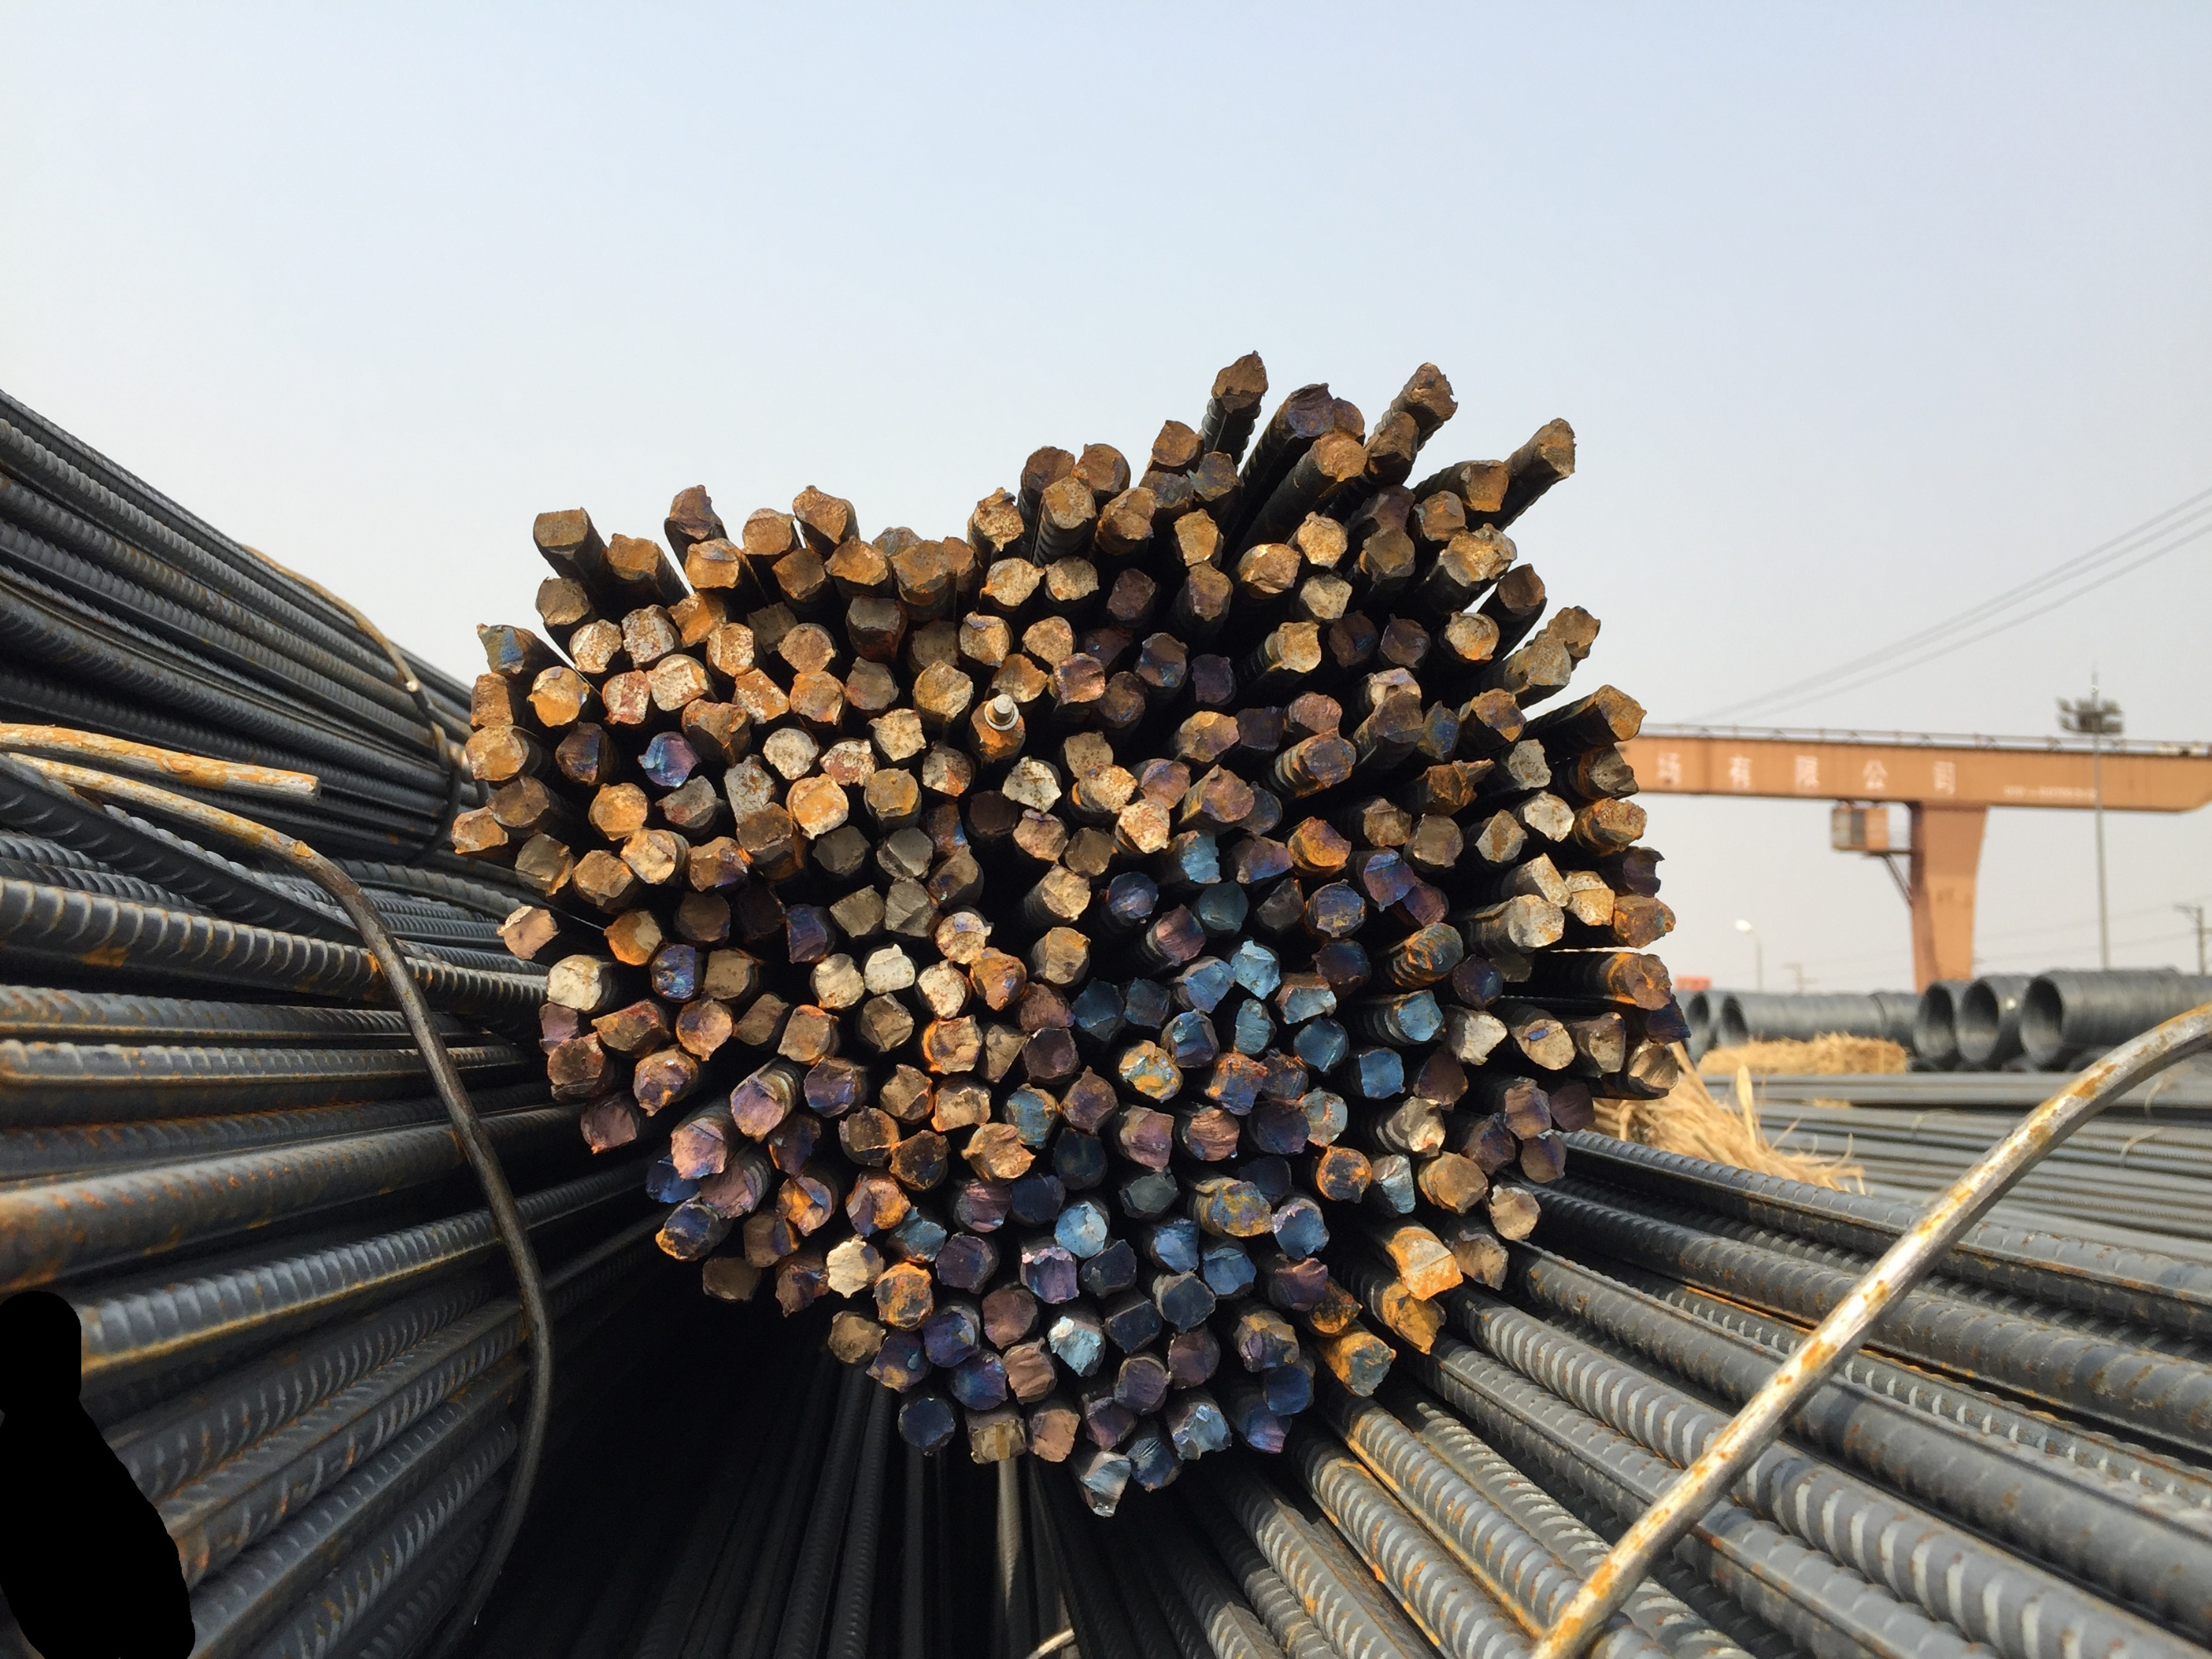rebar: (784, 772, 849, 840), (845, 1169, 910, 1237), (523, 664, 593, 727), (980, 1279, 1041, 1351), (1060, 1065, 1121, 1136), (1117, 1037, 1184, 1101), (546, 1032, 608, 1100), (865, 1330, 933, 1392), (960, 1122, 1035, 1178), (512, 829, 575, 896), (872, 1265, 934, 1331), (873, 1209, 947, 1265), (654, 1201, 718, 1263), (636, 730, 702, 791), (889, 1126, 950, 1192), (464, 723, 532, 782), (1048, 1312, 1107, 1380), (1396, 1239, 1464, 1298), (729, 1072, 786, 1141), (1119, 1103, 1177, 1173), (654, 774, 725, 829), (910, 659, 974, 720), (933, 1230, 994, 1295), (682, 697, 751, 753), (1002, 1337, 1058, 1406), (546, 951, 607, 1014), (631, 1053, 692, 1115), (591, 1000, 664, 1053), (722, 751, 774, 824), (772, 1175, 835, 1236), (1018, 1246, 1081, 1307), (1079, 1236, 1140, 1298), (1203, 1054, 1265, 1115), (1210, 349, 1271, 411), (497, 903, 561, 962), (824, 1234, 884, 1298), (922, 1304, 981, 1368), (1511, 1012, 1576, 1072), (685, 833, 751, 890), (765, 1110, 823, 1176), (485, 774, 553, 829), (1367, 410, 1422, 477), (1269, 1255, 1330, 1316), (1180, 1103, 1241, 1164), (1248, 1096, 1309, 1157), (776, 1002, 835, 1065), (898, 1394, 957, 1457), (948, 1349, 1008, 1412), (837, 1105, 899, 1164), (647, 653, 711, 711), (884, 875, 940, 941), (971, 484, 1025, 552), (1072, 978, 1126, 1046), (587, 781, 648, 840), (675, 1000, 734, 1061), (573, 849, 633, 910), (669, 1117, 729, 1178), (1401, 361, 1461, 422), (1271, 1197, 1330, 1258), (1469, 687, 1529, 748), (1503, 890, 1564, 950), (793, 484, 856, 542), (969, 695, 1027, 758), (856, 992, 913, 1054), (920, 1016, 983, 1073), (1001, 755, 1063, 812), (1208, 1180, 1271, 1237), (891, 537, 955, 592), (1051, 1127, 1107, 1192), (1152, 903, 1208, 967), (1363, 847, 1417, 913), (823, 535, 891, 587), (926, 845, 985, 904), (1337, 1337, 1396, 1396), (1314, 1145, 1374, 1204), (1293, 814, 1353, 873), (1307, 878, 1367, 938), (668, 589, 729, 647), (601, 908, 662, 965), (619, 828, 680, 885), (743, 1209, 800, 1270), (952, 1176, 1013, 1234), (1241, 540, 1302, 598), (1611, 951, 1672, 1009), (1002, 1084, 1058, 1147), (1414, 1044, 1469, 1107), (621, 601, 675, 666), (1166, 1326, 1220, 1391), (1238, 1317, 1302, 1371), (1175, 709, 1241, 762), (978, 556, 1046, 606), (737, 802, 795, 861), (701, 1161, 758, 1220), (774, 1260, 831, 1319), (1023, 1026, 1081, 1086), (1157, 1274, 1217, 1331), (1163, 1011, 1220, 1070), (1436, 530, 1496, 587), (1198, 765, 1255, 824), (1389, 1295, 1449, 1352), (1429, 1152, 1489, 1209), (1588, 685, 1647, 742), (662, 484, 723, 540), (969, 948, 1025, 1009), (826, 1310, 887, 1366), (1171, 1403, 1232, 1459), (1234, 1399, 1295, 1455), (1300, 728, 1356, 789), (1403, 922, 1464, 978), (865, 708, 927, 762), (1295, 507, 1349, 570), (1586, 795, 1649, 849), (1614, 896, 1677, 950), (1466, 1112, 1518, 1176), (927, 1079, 994, 1129), (1079, 1452, 1130, 1518), (1503, 1073, 1553, 1140), (730, 990, 788, 1047), (579, 1098, 638, 1154), (730, 667, 790, 723), (1035, 925, 1091, 985), (804, 1056, 859, 1115), (1053, 1199, 1109, 1258), (1112, 1356, 1168, 1415), (1199, 1244, 1259, 1300), (1279, 382, 1335, 441), (1485, 1182, 1541, 1241), (671, 892, 732, 946), (730, 882, 784, 943), (1027, 1405, 1081, 1466), (1581, 744, 1642, 798), (682, 538, 744, 591), (553, 721, 605, 784), (699, 1251, 762, 1304), (1424, 760, 1487, 812), (533, 573, 591, 629), (762, 725, 819, 781), (819, 732, 877, 788), (770, 545, 826, 603), (1048, 652, 1105, 708), (1260, 1359, 1318, 1415), (1013, 807, 1070, 863), (1133, 633, 1189, 690), (1454, 458, 1511, 514), (1445, 606, 1501, 664), (1180, 957, 1236, 1014), (934, 910, 994, 964), (879, 1063, 933, 1122), (1103, 1298, 1163, 1352), (1171, 507, 1225, 566), (1410, 810, 1464, 870), (600, 667, 652, 728), (873, 828, 934, 880), (1229, 938, 1281, 999), (1307, 939, 1372, 988), (1534, 416, 1581, 483), (830, 884, 885, 939), (1041, 474, 1096, 530), (1377, 612, 1433, 667), (788, 671, 845, 725), (865, 765, 922, 819), (959, 610, 1013, 667), (811, 951, 865, 1009), (1292, 1018, 1349, 1072), (1393, 1098, 1447, 1155), (532, 507, 591, 559), (648, 943, 701, 1002), (1307, 430, 1367, 483), (1297, 1086, 1349, 1145), (1520, 852, 1572, 911), (1370, 1150, 1417, 1215), (568, 619, 622, 674), (744, 599, 798, 655), (701, 948, 757, 1002), (645, 1152, 699, 1208), (1082, 1398, 1138, 1452), (1124, 1436, 1180, 1490), (1185, 450, 1241, 504), (1394, 988, 1449, 1044), (1454, 1009, 1508, 1065), (1396, 871, 1452, 925), (474, 619, 526, 676), (1360, 528, 1417, 580), (1520, 633, 1572, 690), (1367, 692, 1424, 744), (1473, 807, 1525, 864), (784, 901, 830, 967), (450, 805, 509, 856), (777, 622, 837, 673), (988, 653, 1048, 704), (917, 958, 967, 1018), (967, 1415, 1027, 1466), (1149, 1215, 1199, 1274), (1119, 1168, 1178, 1218), (1457, 1229, 1508, 1288), (1628, 1037, 1679, 1096), (1234, 1157, 1295, 1206), (1232, 835, 1293, 884), (981, 1021, 1027, 1086), (845, 655, 899, 709), (1327, 612, 1381, 666), (1039, 864, 1091, 920), (1116, 800, 1171, 852), (1072, 441, 1128, 493), (1103, 486, 1156, 542), (1271, 619, 1323, 674), (1307, 1284, 1363, 1337), (1358, 795, 1414, 847), (922, 741, 973, 798), (811, 826, 870, 875), (1077, 765, 1137, 814), (1581, 1011, 1626, 1073), (863, 941, 915, 995), (1105, 868, 1159, 920), (1354, 1046, 1407, 1100), (1452, 953, 1504, 1007), (1520, 789, 1574, 842), (1011, 1175, 1067, 1225), (1123, 974, 1173, 1030), (1044, 554, 1100, 605), (1412, 490, 1468, 540), (1504, 737, 1555, 793), (1185, 563, 1232, 622), (1417, 699, 1461, 762), (467, 673, 518, 727), (607, 532, 661, 582), (966, 789, 1020, 840), (1138, 758, 1192, 809), (1496, 563, 1550, 613), (1546, 1079, 1597, 1133), (706, 622, 755, 678), (1020, 981, 1075, 1030), (1149, 418, 1204, 467), (1550, 605, 1605, 653), (1105, 566, 1156, 619), (1234, 704, 1286, 755), (912, 619, 960, 673), (1062, 728, 1116, 777), (1175, 829, 1222, 885), (847, 596, 906, 640), (1198, 880, 1248, 931), (1259, 1049, 1309, 1100), (1021, 615, 1074, 664), (1278, 981, 1339, 1023), (1299, 572, 1353, 619), (1259, 878, 1306, 932), (1619, 845, 1666, 899), (922, 800, 967, 856), (537, 1000, 580, 1058), (1286, 688, 1344, 732), (743, 507, 793, 556), (1365, 484, 1415, 533), (1520, 1134, 1571, 1183), (1642, 995, 1693, 1044), (1100, 673, 1147, 725), (1079, 624, 1133, 669), (1473, 521, 1518, 575), (1231, 1000, 1276, 1054), (1360, 667, 1422, 706), (1191, 653, 1238, 704), (1063, 829, 1114, 875), (1021, 444, 1074, 488), (1243, 781, 1283, 836), (1138, 469, 1192, 509), (1567, 887, 1616, 929), (1487, 948, 1541, 981), (936, 533, 976, 577), (870, 525, 926, 554), (1330, 396, 1365, 441), (1564, 868, 1612, 890)
